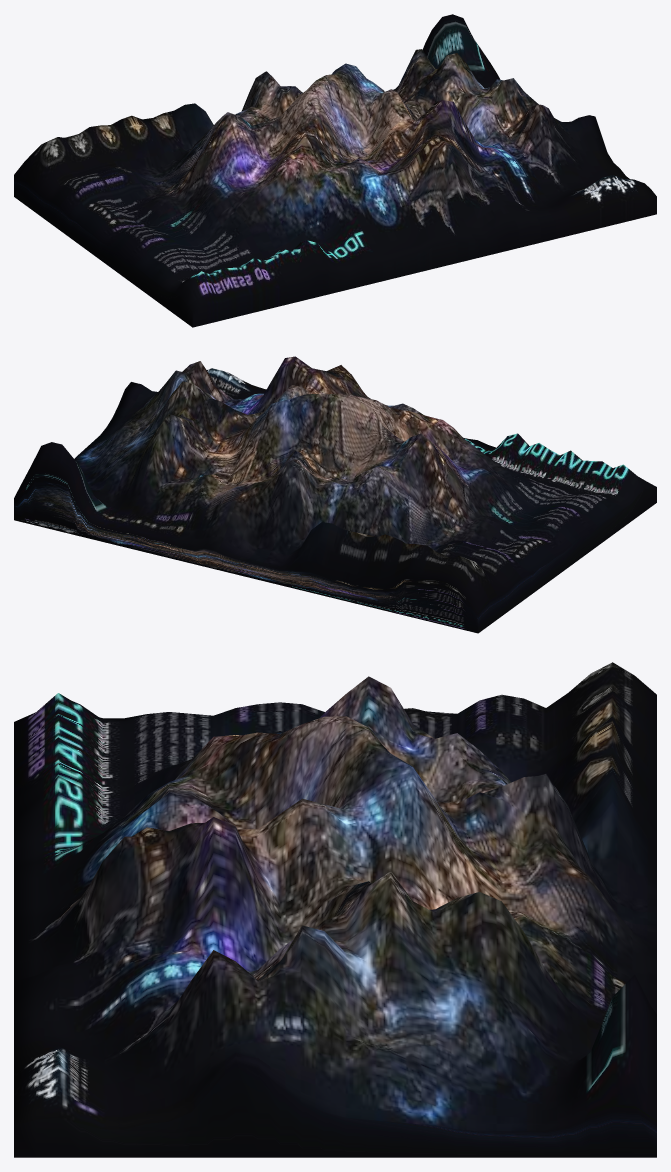
The model's file is BUSINESS_08_Cultivation_School.glb.
3 renders of one model, top to bottom at view 1: azimuth 30°, elevation 25°; view 2: azimuth 150°, elevation 25°; view 3: azimuth 270°, elevation 25°, orthographic. The views are drawn at different scales.
Parts seen in each view (by area): view 1: BUSINESS_08_Cultivation_School; view 2: BUSINESS_08_Cultivation_School; view 3: BUSINESS_08_Cultivation_School.
Part boxes in pixels (left/top/right/bottom): BUSINESS_08_Cultivation_School: left=14, top=14, right=656, bottom=327; BUSINESS_08_Cultivation_School: left=14, top=356, right=656, bottom=633; BUSINESS_08_Cultivation_School: left=14, top=662, right=656, bottom=1157.
Size of the model in its own units: 2 by 0.51 by 1.33.
1 material, 1 textured.
